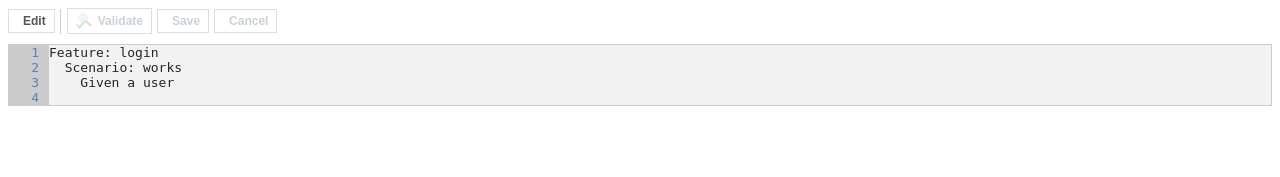
Test: Cucumber Test panel › lists every parser error and marks the lines they point at
The image size is (1280, 177).
Expected: the element with id "cucumber-edit-panel" is shown, [8,8,1272,106]
Click the button "Edit" at coordinates (31, 21), box [8,9,55,33]
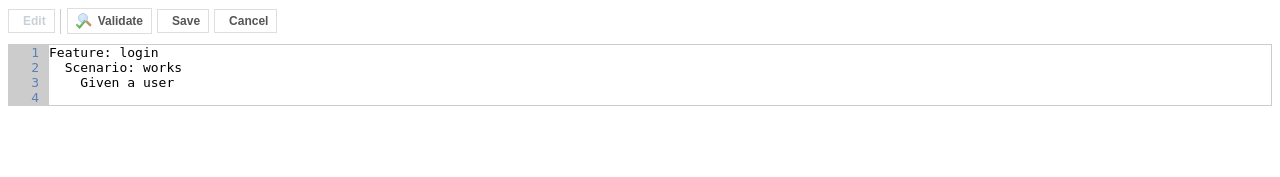
Click the button "Validate" at coordinates (109, 21), box [67,8,152,34]
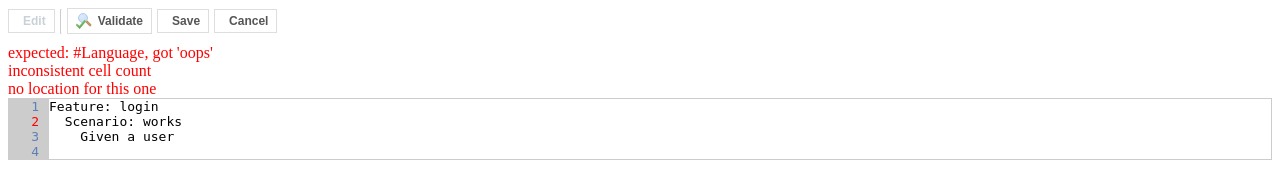
Expected: the element with id "feature-validation-result" is shown, [8,44,213,97]
Expected: the element with id "feature-validation-result" shows "expected: #Language, got 'oops'", [8,44,213,61]
Expected: the element with id "feature-validation-result" shows "inconsistent cell count", [8,62,151,79]
